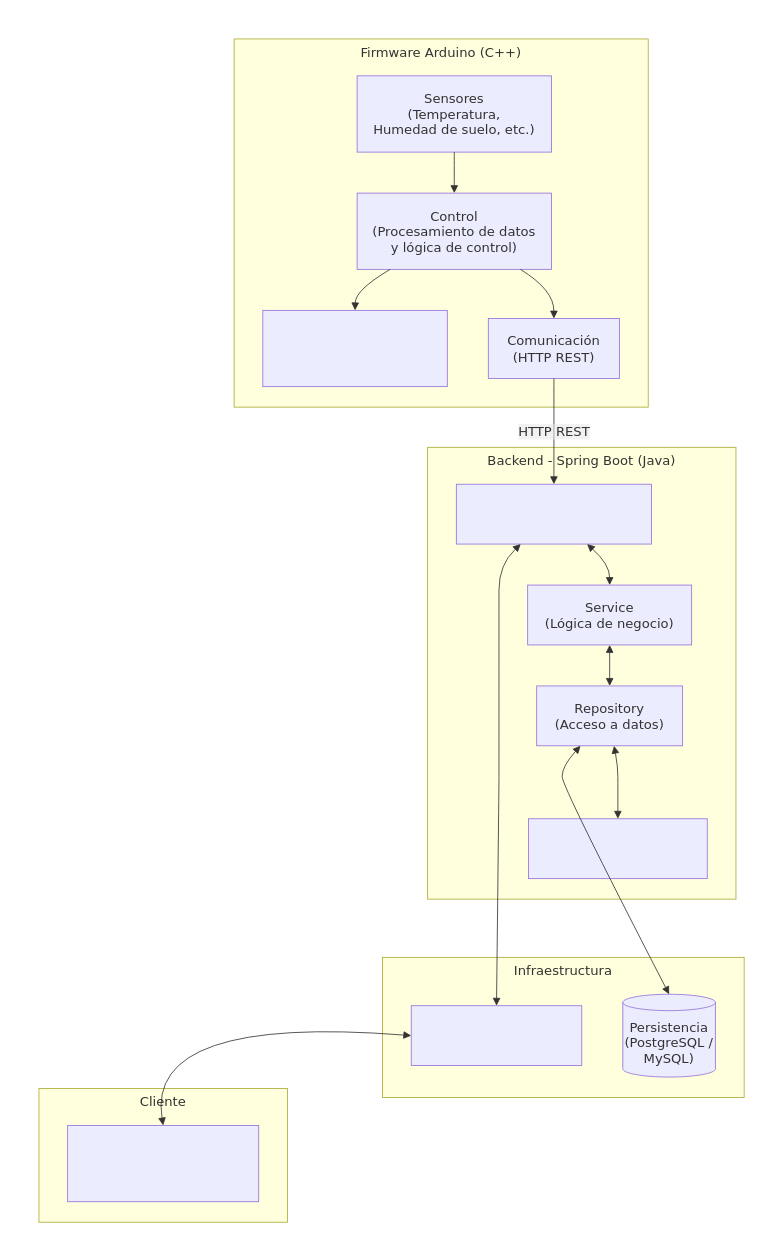
This 759x1237 diagram has some shape labels left out. Each missing label, with the centre of its shape:
Actuadores (Bombas, ventiladores, luces, etc.): (x=354, y=348)
Comunicación WiFi (HTTP REST / MQTT): (x=496, y=1035)
Controller (Expone endpoints REST): (x=553, y=513)
Dashboard Web / App Móvil (Visualización y control): (x=163, y=1163)
Domain (Entidades y modelos): (x=617, y=848)
